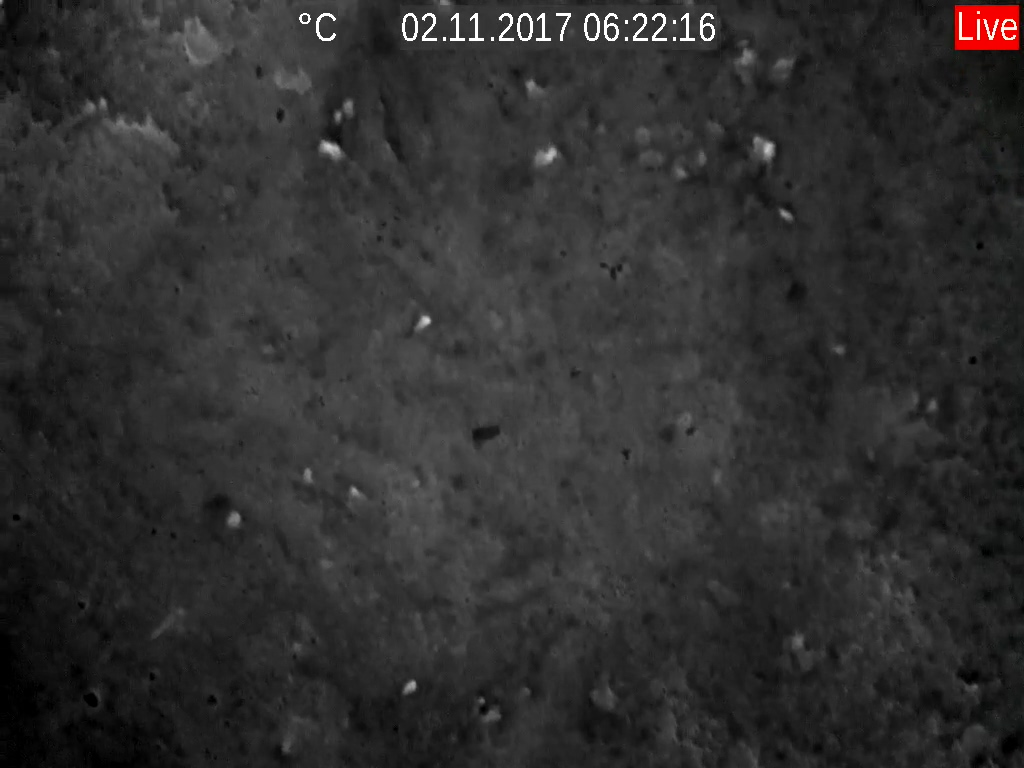warren: (749, 129, 784, 167), (409, 311, 437, 339), (774, 199, 797, 229), (399, 672, 418, 698)
